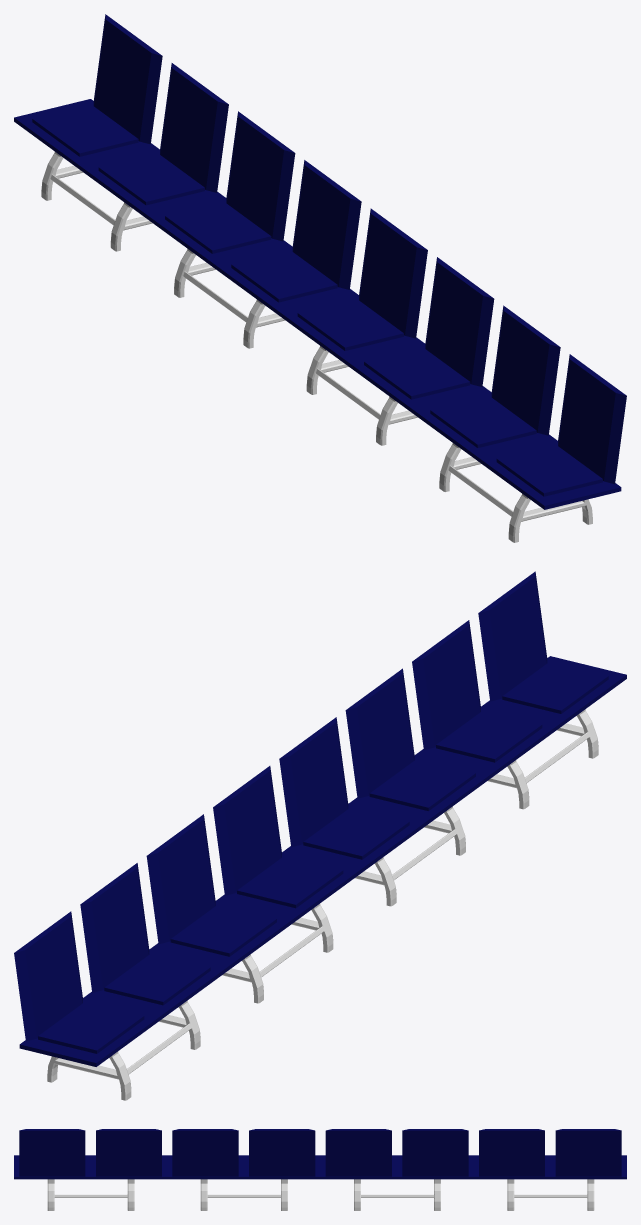
File: Gym_Bancos.fbx
3 renders of one model, top to bottom at view 1: azimuth 30°, elevation 25°; view 2: azimuth 150°, elevation 25°; view 3: azimuth 270°, elevation 25°, orthographic. The views are drawn at different scales.
Visible parts, largest first — view 1: Gym_Bancos; view 2: Gym_Bancos; view 3: Gym_Bancos.
Boxes of the visible parts, <box> form: Gym_Bancos: <box>14,14,626,542</box>; Gym_Bancos: <box>14,571,626,1100</box>; Gym_Bancos: <box>14,1129,626,1210</box>.
Bounding box in the file's own units: 240 × 373 × 2497.
